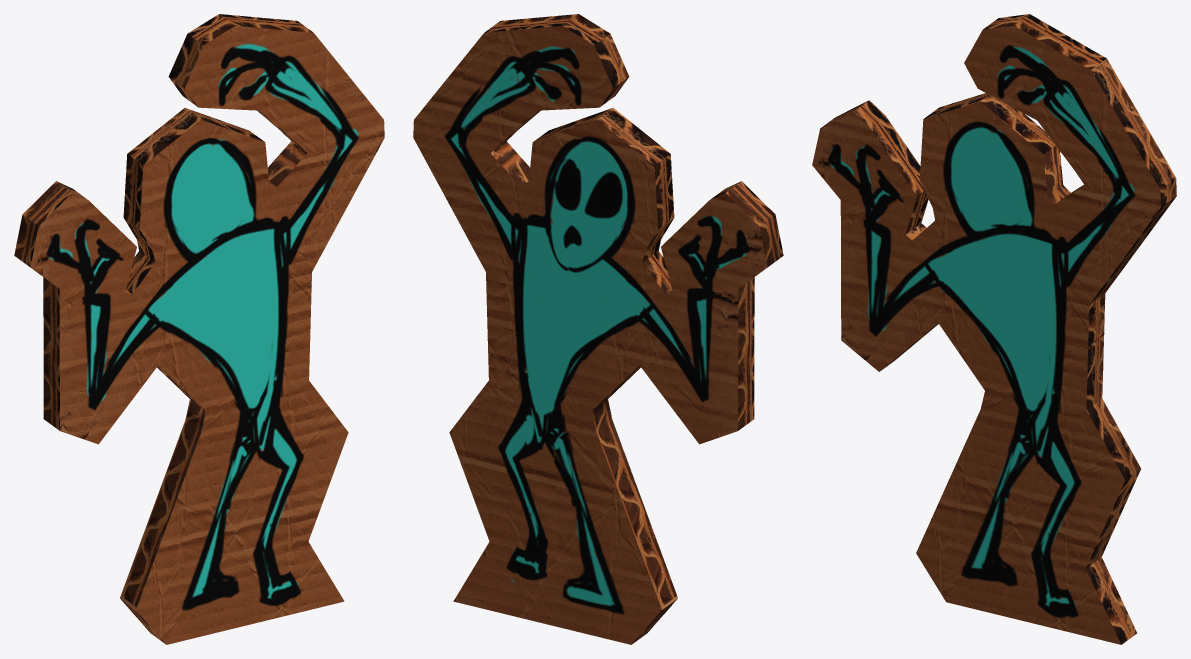
The model's file is alienModelStunned.fbx.
3 renders of one model, left to right at view 1: azimuth 30°, elevation 25°; view 2: azimuth 150°, elevation 25°; view 3: azimuth 330°, elevation 25°, orthographic.
Visible parts, largest first — view 1: pCube1; view 2: pCube1; view 3: pCube1.
Part boxes in pixels (left/top/right/bottom): pCube1: left=14, top=14, right=384, bottom=644; pCube1: left=413, top=14, right=783, bottom=644; pCube1: left=812, top=14, right=1176, bottom=644.
Size of the model in its own units: 5.25 by 8.53 by 0.4151.
